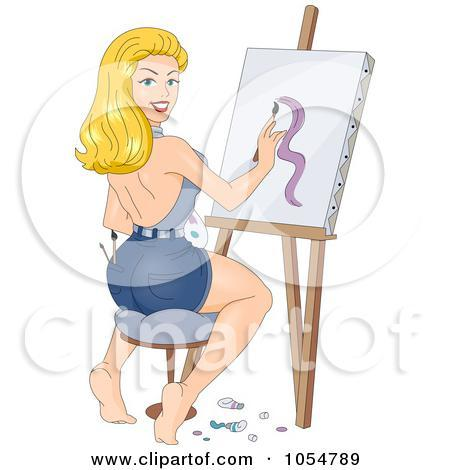person: (74, 26, 282, 444)
